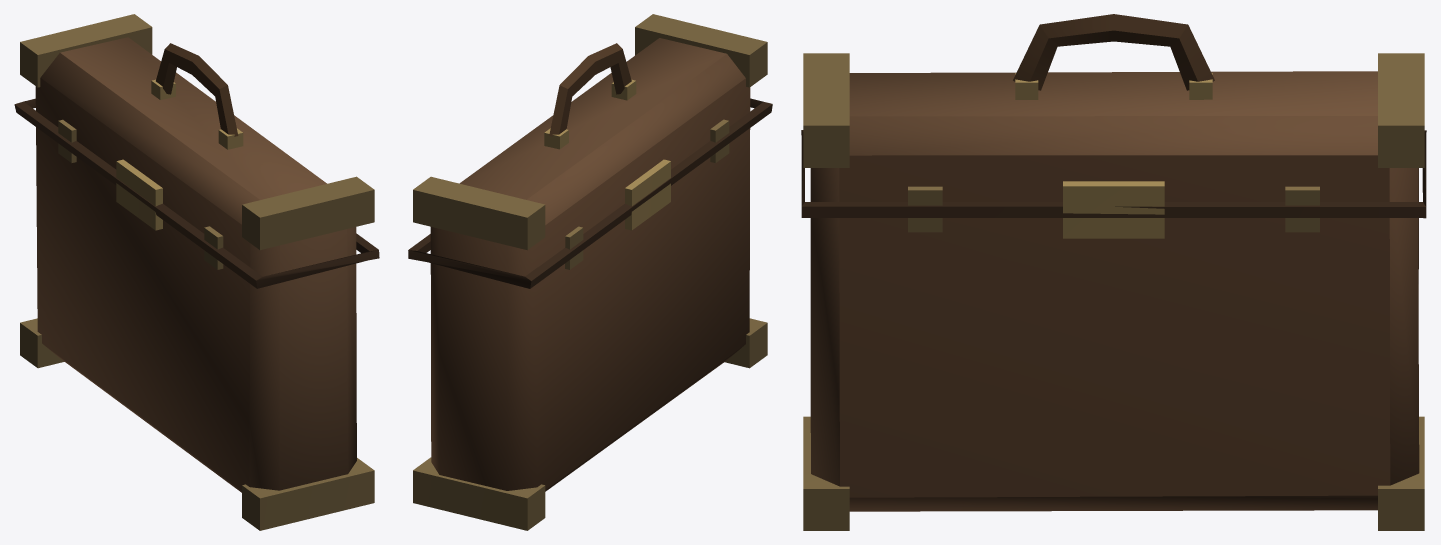
Rendered from ph_prop_case.glb.
3 views of the same model, side by side, from view 1: azimuth 30°, elevation 25°; view 2: azimuth 150°, elevation 25°; view 3: azimuth 270°, elevation 25° (orthographic). The views are drawn at different scales.
Visible parts, largest first — view 1: ph_prop_case; view 2: ph_prop_case; view 3: ph_prop_case.
Boxes of the visible parts, left/top/right/bottom form: ph_prop_case: left=14, top=14, right=379, bottom=530; ph_prop_case: left=408, top=14, right=772, bottom=530; ph_prop_case: left=801, top=14, right=1426, bottom=530.
Size of the model in its own units: 0.1272 by 0.3665 by 0.4306.
